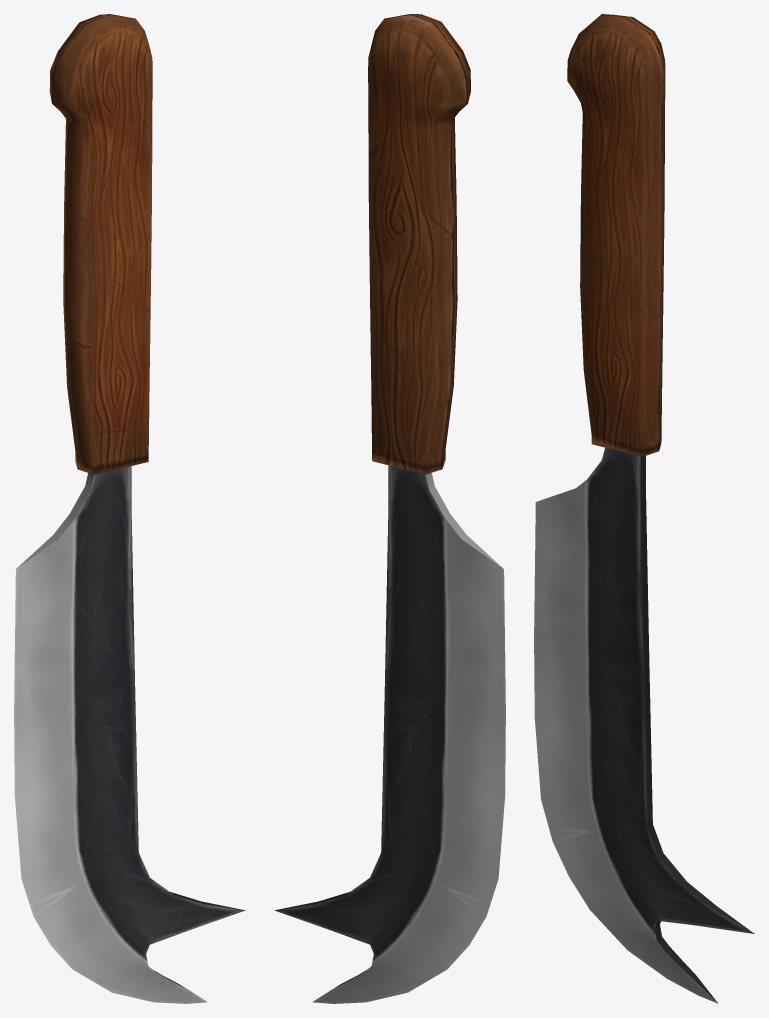
The model's file is CheeseKnife.fbx.
3 renders of one model, left to right at view 1: azimuth 30°, elevation 25°; view 2: azimuth 150°, elevation 25°; view 3: azimuth 330°, elevation 25°, orthographic. The views are drawn at different scales.
Visible parts, largest first — view 1: knife.001; view 2: knife.001; view 3: knife.001.
Boxes of the visible parts, x1,y1,x2,y2 form: knife.001: [14, 14, 245, 1003]; knife.001: [274, 14, 505, 1003]; knife.001: [534, 14, 754, 1003].
Bounding box in the file's own units: 20.22 × 84.36 × 2.93.
